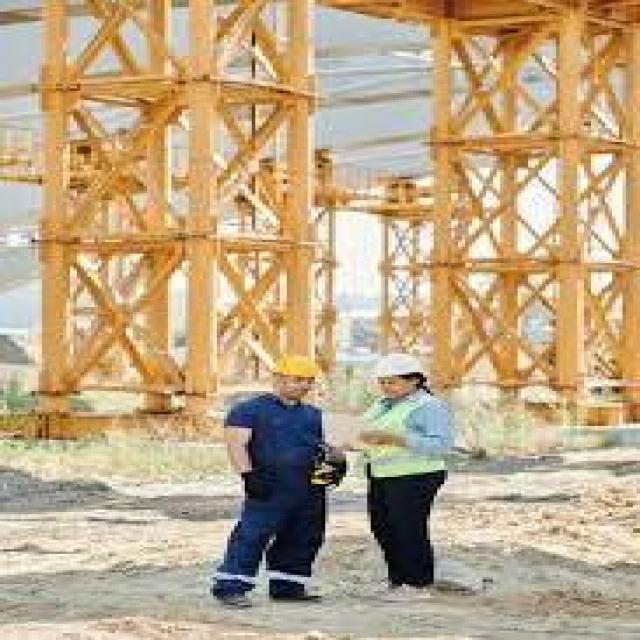Reflective-Jacket: (349, 391, 468, 486)
Safety-Helmet: (255, 347, 336, 391), (357, 349, 437, 389)
